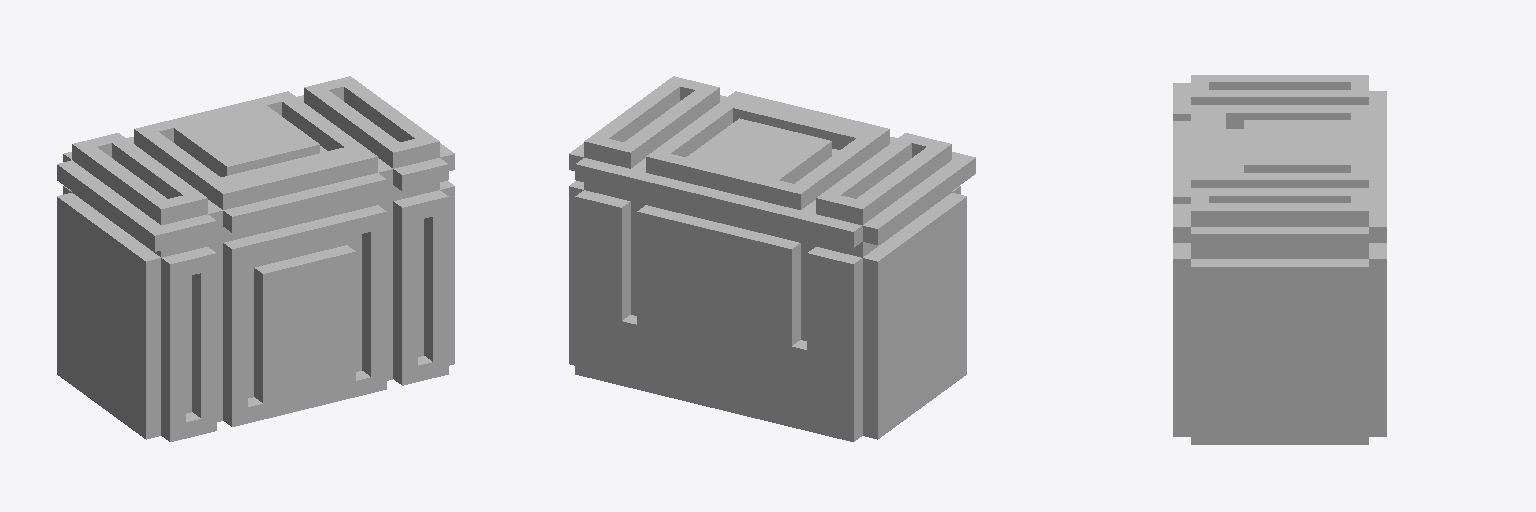
Rendered from Chest.obj.
The picture shows the model from 3 angles: view 1: azimuth 30°, elevation 25°; view 2: azimuth 150°, elevation 25°; view 3: azimuth 270°, elevation 25°; orthographic projection.
Parts seen in each view (by area): view 1: object 1; view 2: object 1; view 3: object 1.
Part boxes in pixels (x1,y1,x2,y2): object 1: (57,76,454,441); object 1: (569,76,975,441); object 1: (1173,75,1386,444).
Size of the model in its own units: 2 by 1.4 by 1.2.